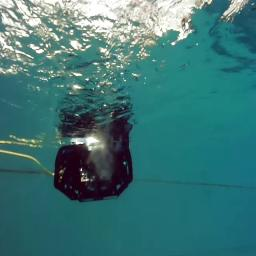Side: (54, 141, 133, 200)
